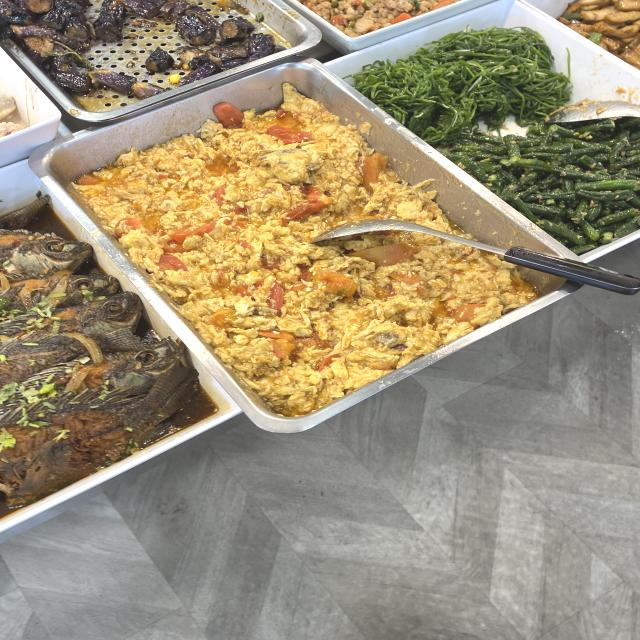Scramble Egg with Tomatoes: (142, 159, 309, 264)
